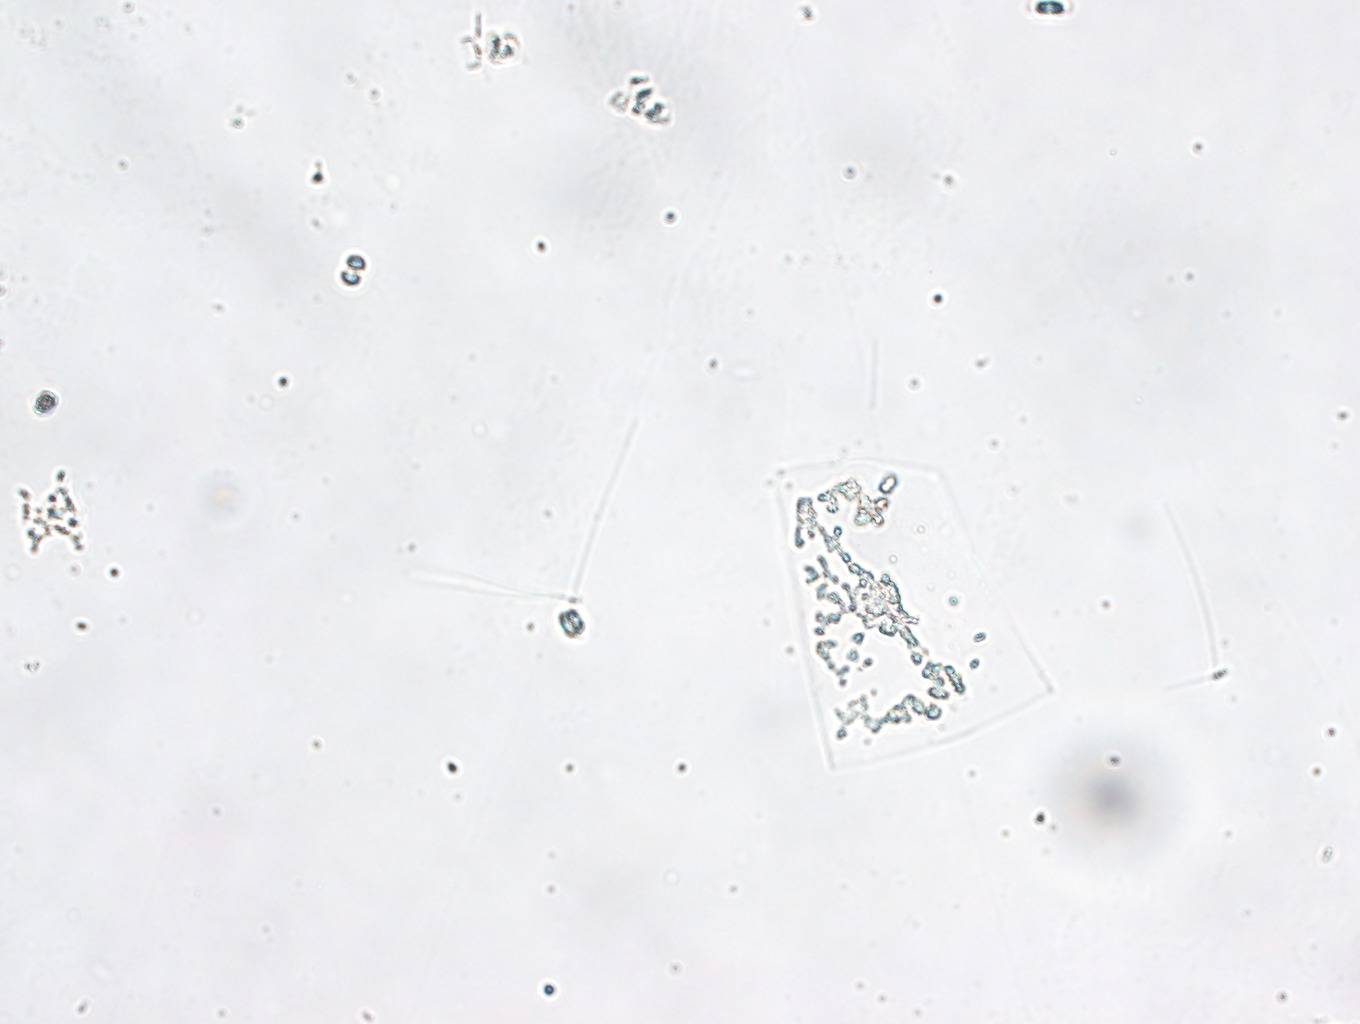chaetoceros: (409, 410, 639, 648)
helicotheca: (778, 458, 1053, 768)
